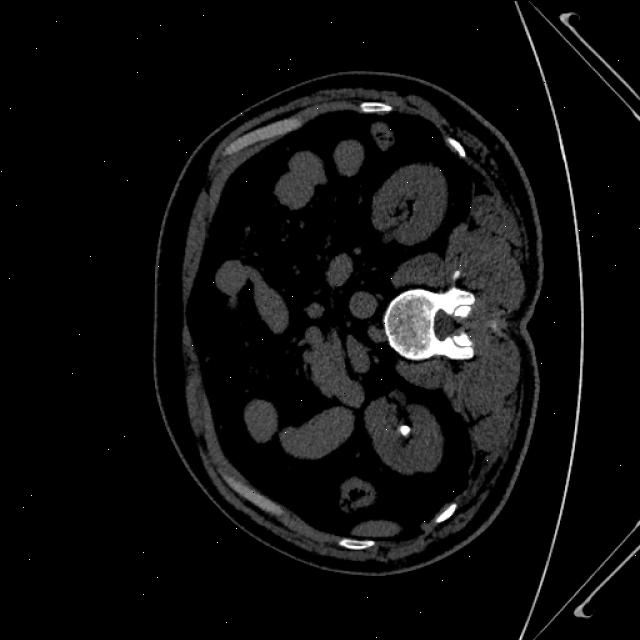kidneystone: (398, 422, 412, 438)
